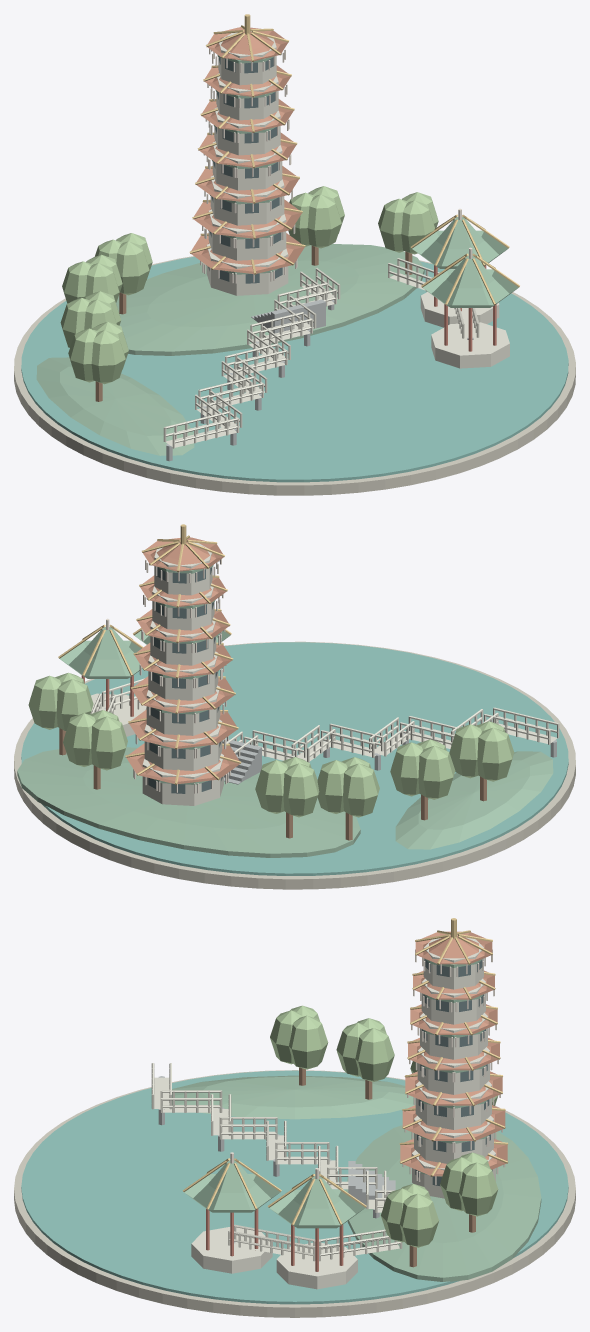
The model's file is dot-chengcing-lake.glb.
3 renders of one model, top to bottom at view 1: azimuth 30°, elevation 25°; view 2: azimuth 150°, elevation 25°; view 3: azimuth 270°, elevation 25°, orthographic.
Visible parts, largest first — view 1: sand; view 2: sand; view 3: sand.
Part boxes in pixels (<box>): sand: <box>14,14,575,495</box>; sand: <box>14,524,575,889</box>; sand: <box>14,918,575,1317</box>.
Size of the model in its own units: 7.88 by 4.57 by 7.88.
1 material, 1 textured.
